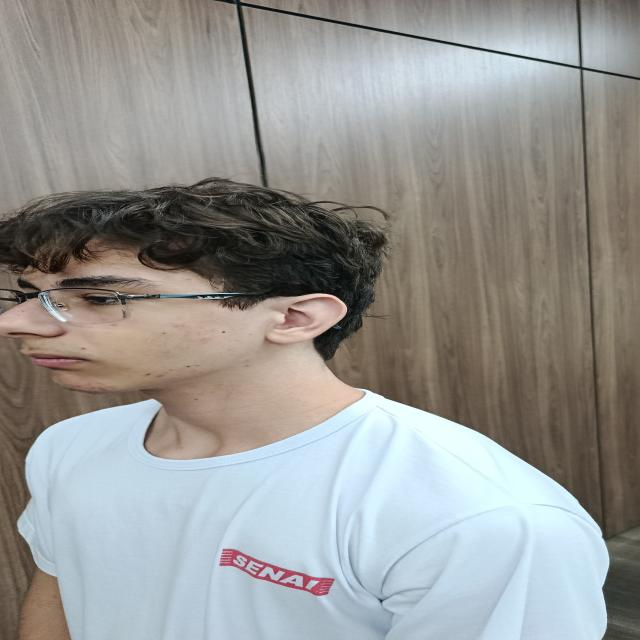sem_oculos: (0, 287, 243, 325)
